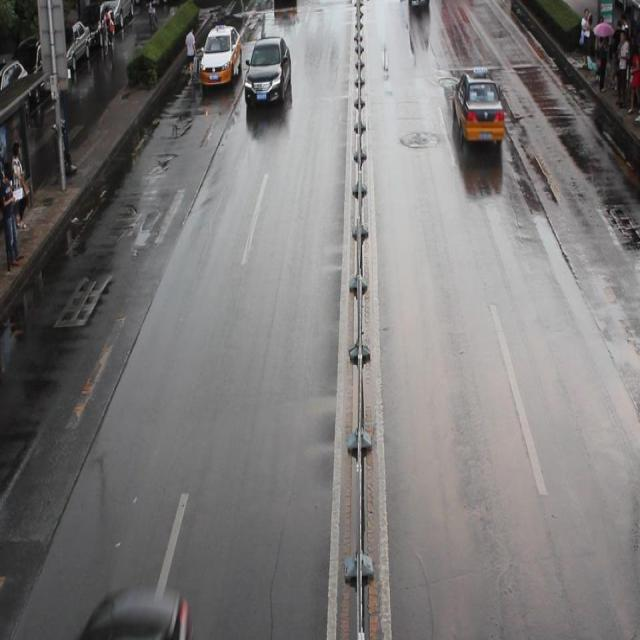car: (451, 67, 504, 143), (243, 38, 290, 108), (198, 23, 242, 86), (274, 1, 296, 10)
truck: (408, 1, 429, 10)
